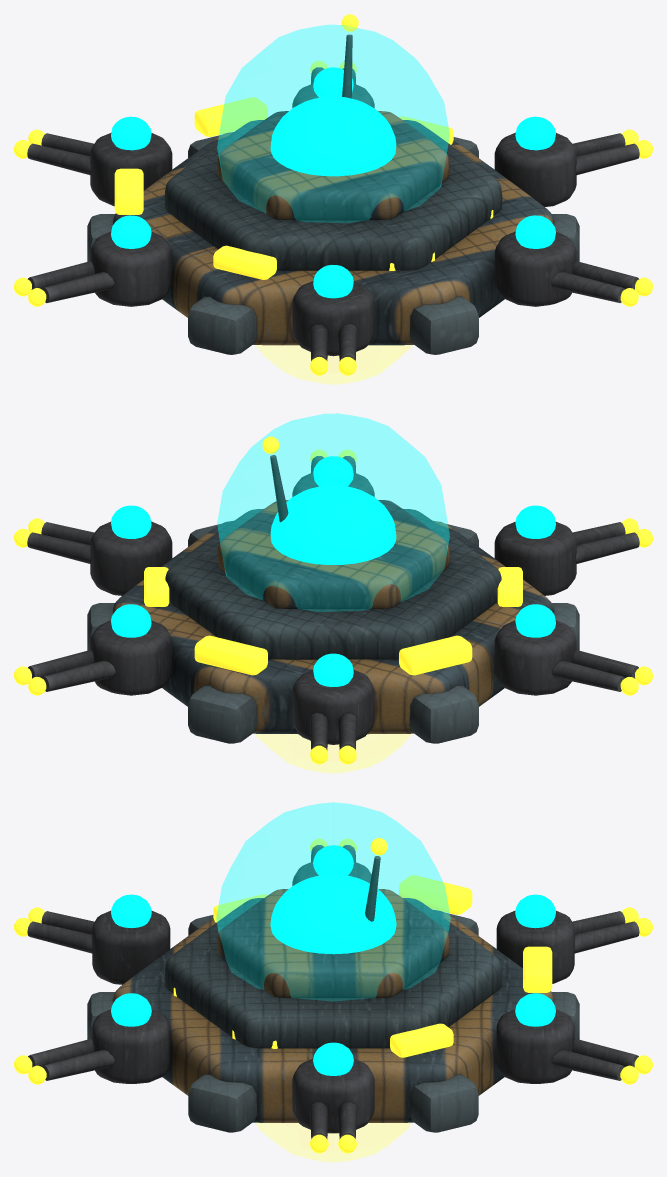
File: enemy_colossus.glb
3 views of the same model, one above another, from view 1: azimuth 30°, elevation 25°; view 2: azimuth 150°, elevation 25°; view 3: azimuth 270°, elevation 25° (orthographic).
Visible parts, largest first — view 1: hull, turret_ring, Sphere.002, Sphere.001, Sphere.022, Cube.019, Cube.021, Cube.020; view 2: hull, turret_ring, Sphere.002, Sphere.001, Sphere.022, Cube.019, Cube.020, Cube.018, Cube.021; view 3: hull, turret_ring, Sphere.002, Sphere.001, Sphere.022, Cube.020, Cube.018, Cube.019.
Boxes of the visible parts, bbox=[...] form: hull: bbox=[87, 34, 579, 354]; turret_ring: bbox=[14, 60, 652, 375]; Sphere.002: bbox=[217, 25, 449, 222]; Sphere.001: bbox=[270, 96, 396, 176]; Sphere.022: bbox=[256, 345, 411, 384]; Cube.019: bbox=[194, 97, 267, 136]; Cube.021: bbox=[213, 245, 276, 279]; Cube.020: bbox=[114, 168, 143, 214]; hull: bbox=[87, 455, 579, 743]; turret_ring: bbox=[14, 449, 652, 764]; Sphere.002: bbox=[217, 413, 449, 611]; Sphere.001: bbox=[270, 485, 396, 564]; Sphere.022: bbox=[255, 734, 410, 773]; Cube.019: bbox=[194, 635, 267, 675]; Cube.020: bbox=[399, 635, 472, 675]; Cube.018: bbox=[144, 567, 169, 606]; Cube.021: bbox=[497, 567, 522, 606]; hull: bbox=[87, 856, 579, 1132]; turret_ring: bbox=[14, 838, 652, 1153]; Sphere.002: bbox=[216, 802, 450, 1000]; Sphere.001: bbox=[270, 874, 396, 954]; Sphere.022: bbox=[256, 1123, 410, 1162]; Cube.020: bbox=[399, 875, 472, 914]; Cube.018: bbox=[390, 1023, 453, 1057]; Cube.019: bbox=[523, 946, 552, 992].
Bounding box in the file's own units: 2.28 × 1.19 × 2.03.
5 materials, 1 textured.
